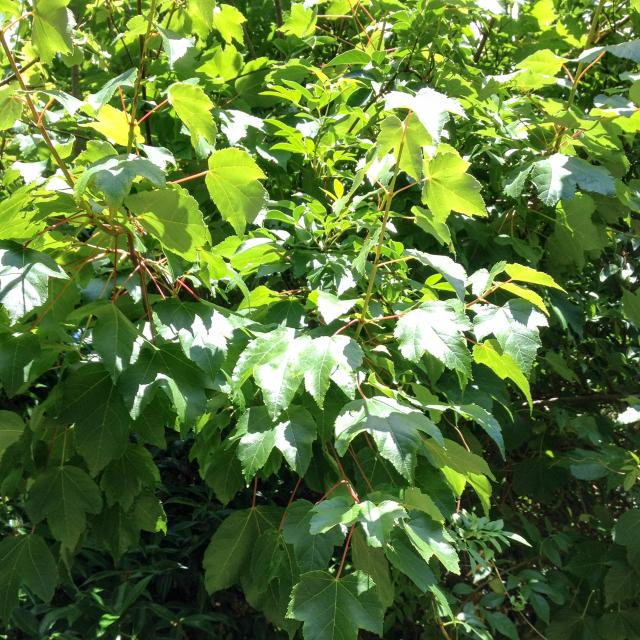Jeffers Red: (3, 1, 640, 627)
